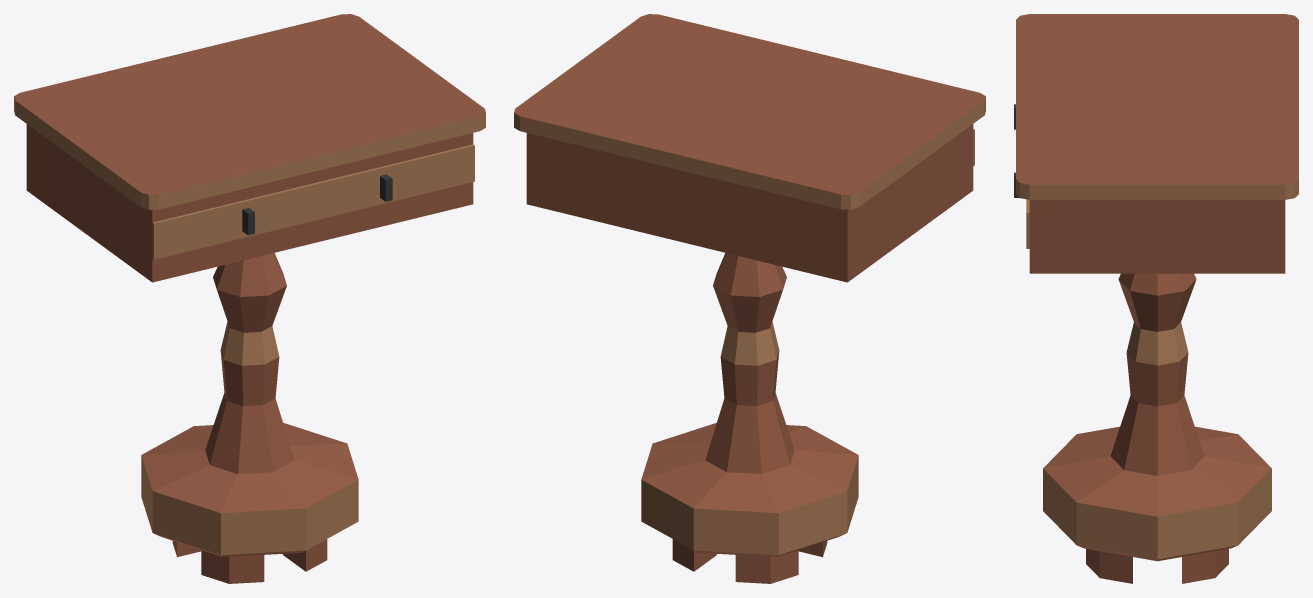
The model's file is mesacosturero.fbx.
The picture shows the model from 3 angles, left to right: view 1: azimuth 30°, elevation 25°; view 2: azimuth 150°, elevation 25°; view 3: azimuth 270°, elevation 25°; orthographic projection.
Parts seen in each view (by area): view 1: mesa_costurero; view 2: mesa_costurero; view 3: mesa_costurero.
Part boxes in pixels (x1,y1,x2,y2): mesa_costurero: (14, 14, 485, 583); mesa_costurero: (514, 14, 985, 583); mesa_costurero: (1014, 14, 1298, 583).
Bounding box in the file's own units: 60 × 74.5 × 42.3.
